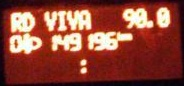-: (146, 19, 153, 28)
0: (155, 6, 170, 27), (8, 33, 22, 53), (134, 7, 146, 28)
1: (50, 33, 57, 51), (86, 32, 93, 50)
4: (57, 33, 68, 50)
6: (104, 30, 118, 50)
9: (121, 7, 134, 29), (68, 32, 81, 51), (93, 31, 104, 50)
X: (42, 9, 57, 31), (77, 9, 91, 30), (22, 10, 35, 31), (9, 11, 22, 32), (66, 9, 78, 30), (56, 10, 66, 31), (79, 58, 87, 73)
